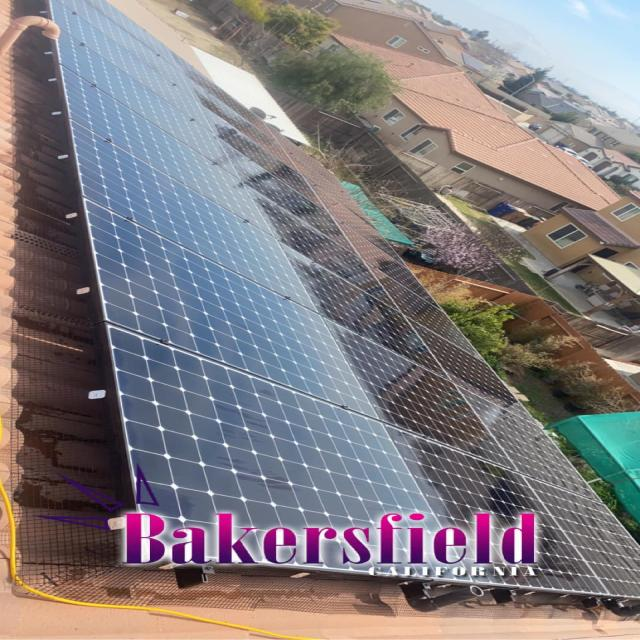clean-solar-panel: (49, 1, 639, 599)
